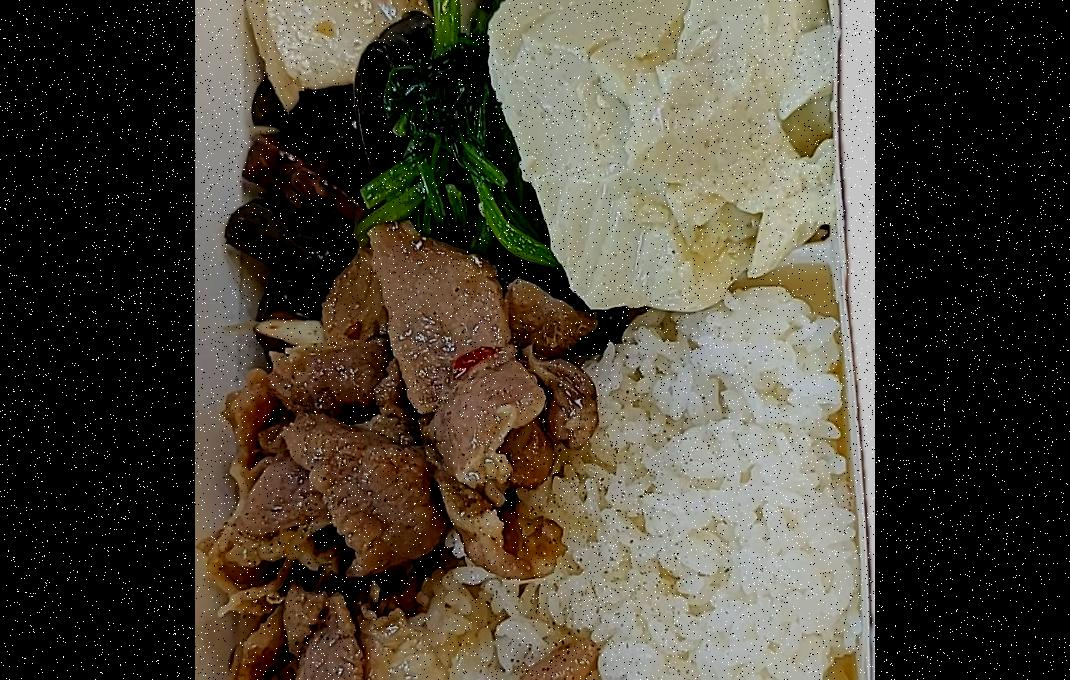big grilled chicken leg: (216, 0, 875, 680)
big herbal chicken leg: (345, 290, 862, 680)
braised fish fillet: (483, 0, 839, 313), (228, 0, 424, 359), (359, 0, 574, 284)
braised pork: (206, 226, 606, 680)
